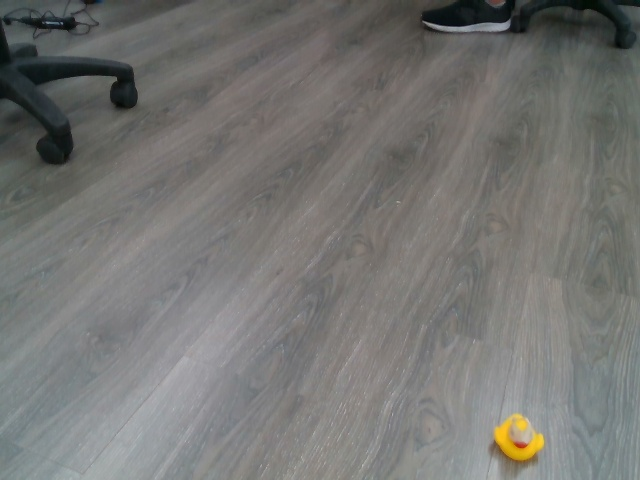duck: (490, 411, 548, 462)
